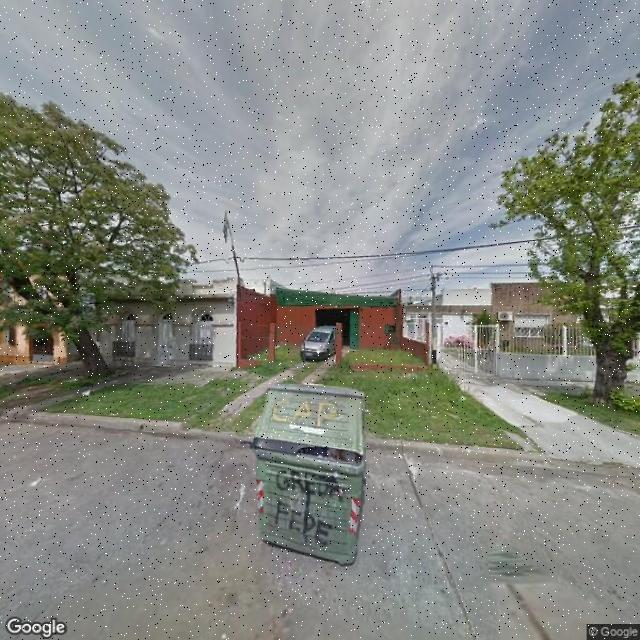garbage container: (247, 380, 378, 579)
